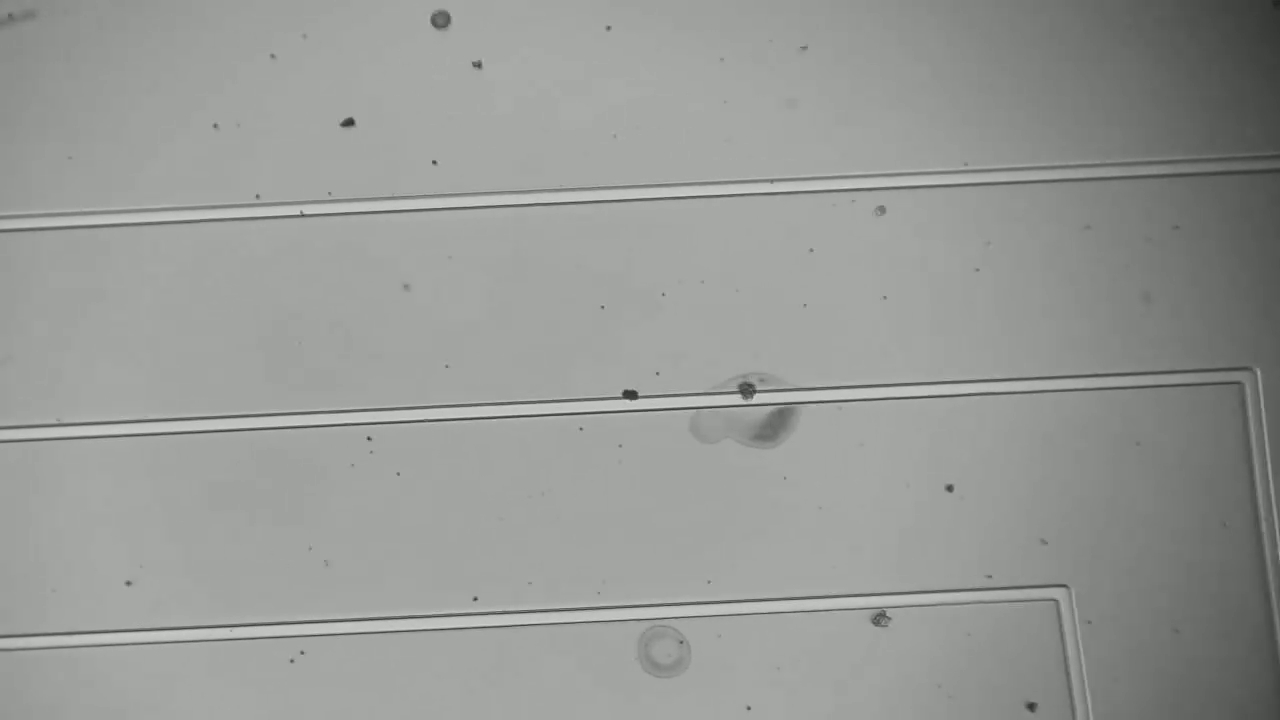stains_enbedded: (728, 375, 766, 413)
